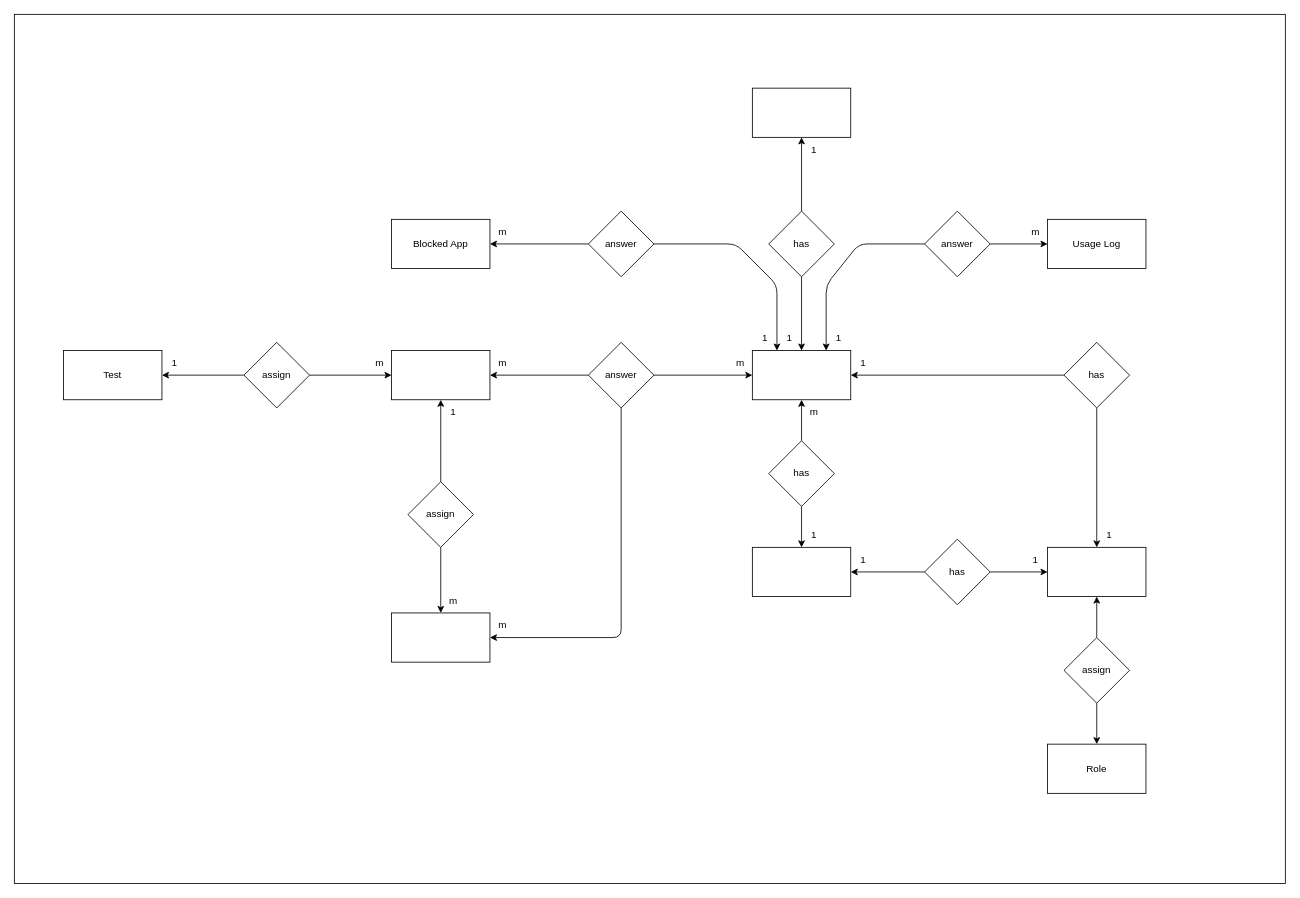
Some shapes in this 1300 by 898 pixel diagram are drawn without their labels. The centre of each missing label's shape, as x and y in pixels:
"Child" belongs at point 801,375.
"Device Settings" belongs at point 801,112.
"Option" belongs at point 440,637.
"Parent" belongs at point 801,572.
"Question" belongs at point 440,375.
"User" belongs at point 1096,572.
